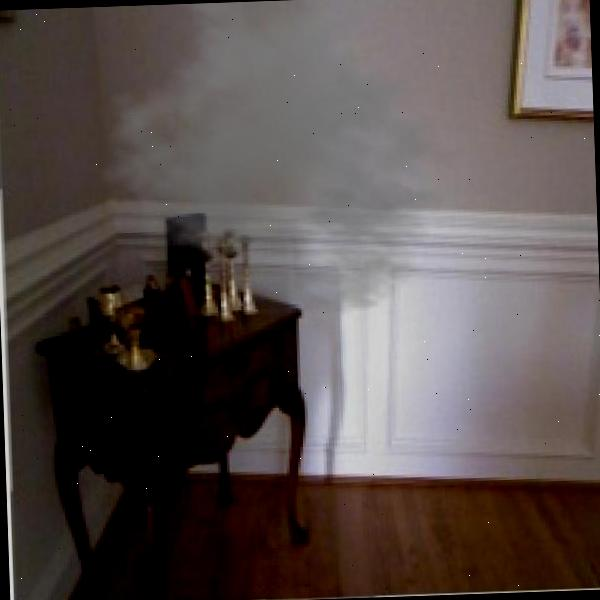smoke: (206, 49, 388, 287)
